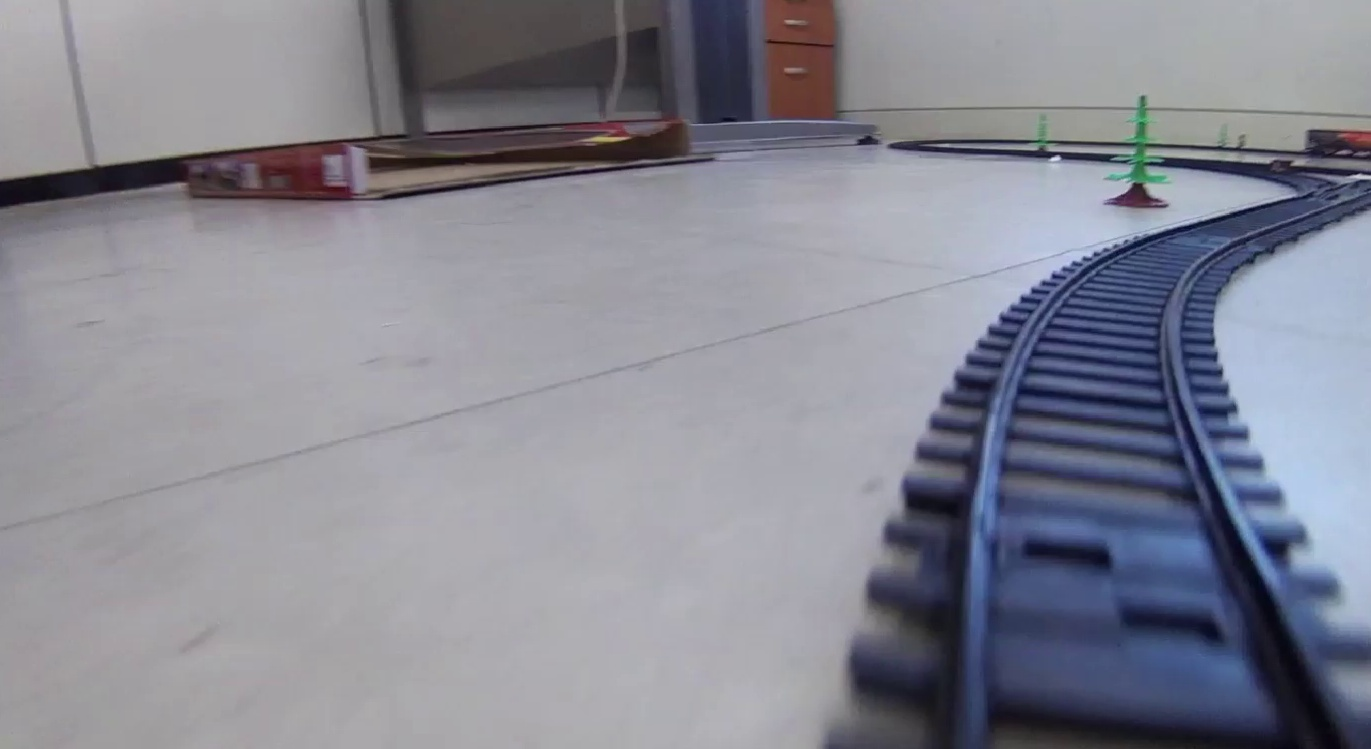tree: (1100, 92, 1169, 211)
